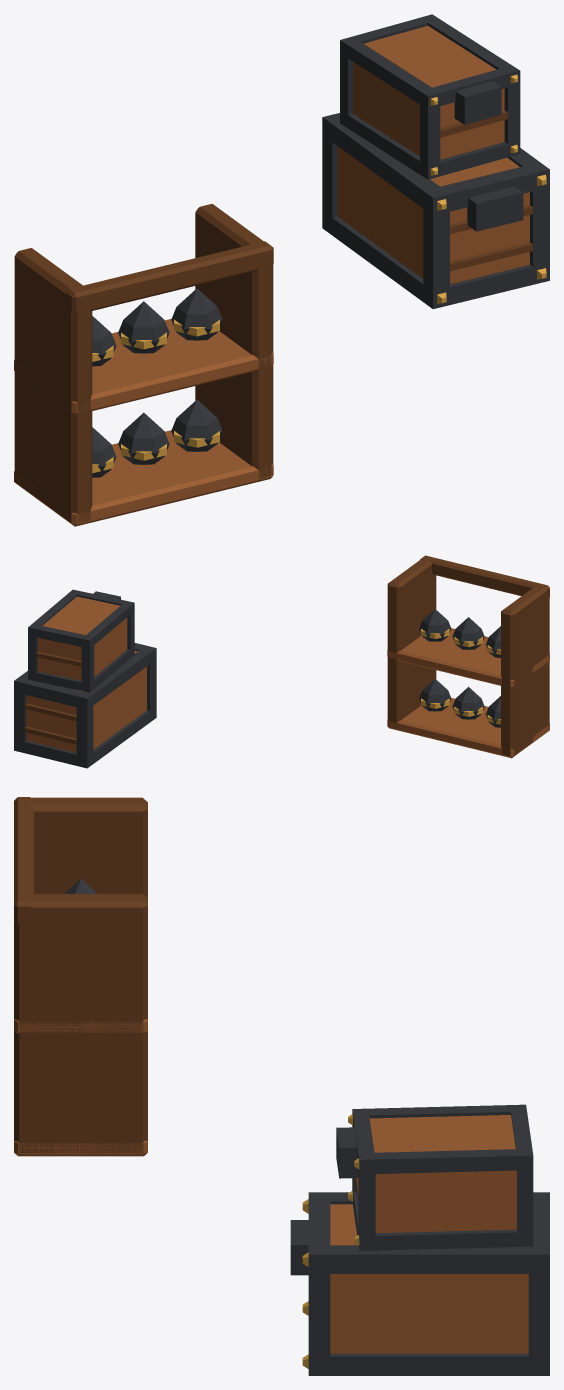
File: MortarDressB1.obj
3 renders of one model, top to bottom at view 1: azimuth 30°, elevation 25°; view 2: azimuth 150°, elevation 25°; view 3: azimuth 270°, elevation 25°, orthographic. The views are drawn at different scales.
Visible parts, largest first — view 1: MortarDressB1; view 2: MortarDressB1; view 3: MortarDressB1.
Boxes of the visible parts, bbox=[...] form: MortarDressB1: bbox=[14, 14, 549, 526]; MortarDressB1: bbox=[14, 555, 549, 768]; MortarDressB1: bbox=[14, 797, 549, 1375].
Bounding box in the file's own units: 1.15 × 0.42 × 0.8.
